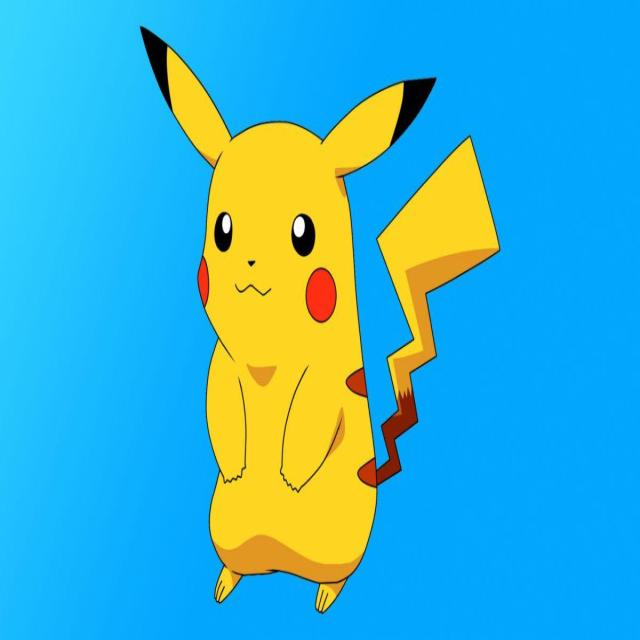pikachu: (139, 24, 499, 614)
